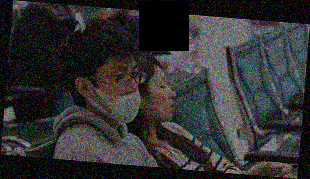with_mask: (94, 61, 144, 122)
without_mask: (145, 73, 178, 121)
